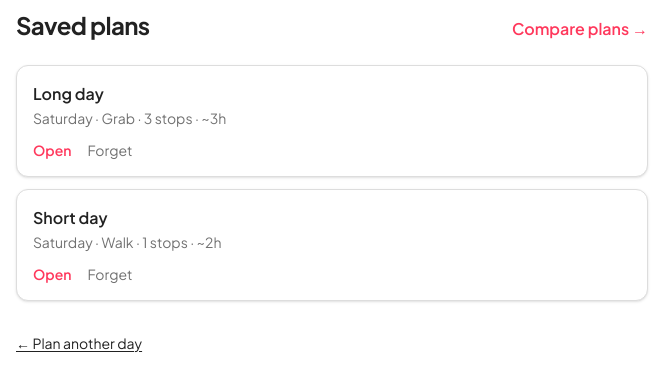
Test: SavedPlansView › removes only the forgotten plan
Click the button "Forget" below "Long day" at (110, 150), box [88,140,133,160]
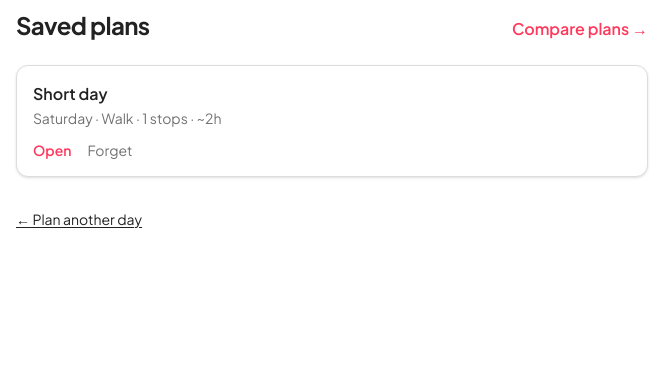
expect the text "Short day" is shown: met, box [33,83,108,104]
expect the text "Long day" is gone: met
